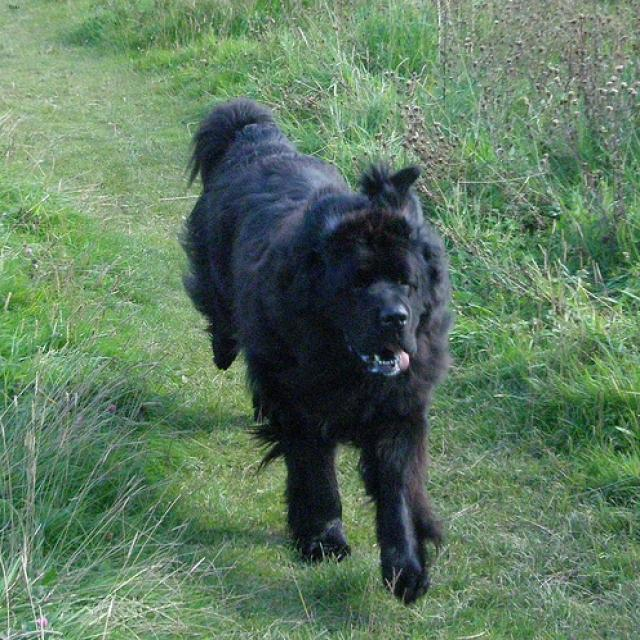dog-newfoundland: (163, 88, 470, 614)
